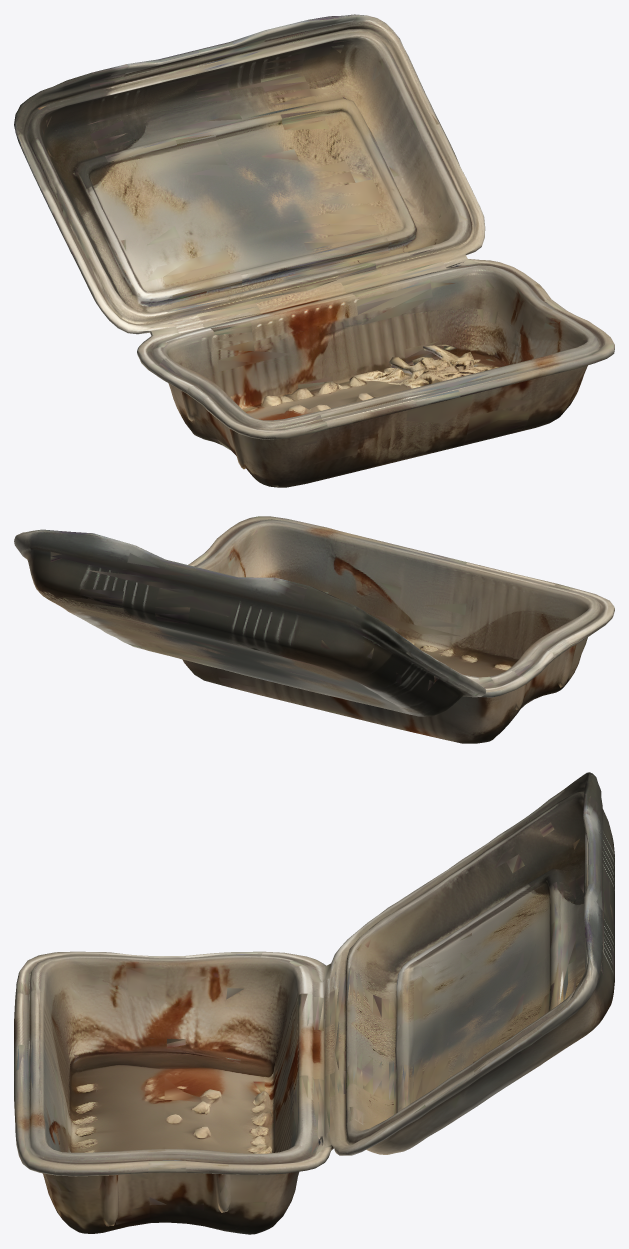
Rendered from Meshy_AI_Seeds_and_stains_in_a_0313125837_texture.fbx.
3 views of the same model, one above another, from view 1: azimuth 30°, elevation 25°; view 2: azimuth 150°, elevation 25°; view 3: azimuth 270°, elevation 25° (orthographic). The views are drawn at different scales.
Parts seen in each view (by area): view 1: Mesh_0; view 2: Mesh_0; view 3: Mesh_0.
Boxes of the visible parts, bbox=[...] form: Mesh_0: bbox=[14, 14, 614, 487]; Mesh_0: bbox=[14, 516, 614, 743]; Mesh_0: bbox=[14, 772, 614, 1234].
Size of the model in its own units: 167 by 103 by 191.
Materials: 1 (1 with a texture image).
